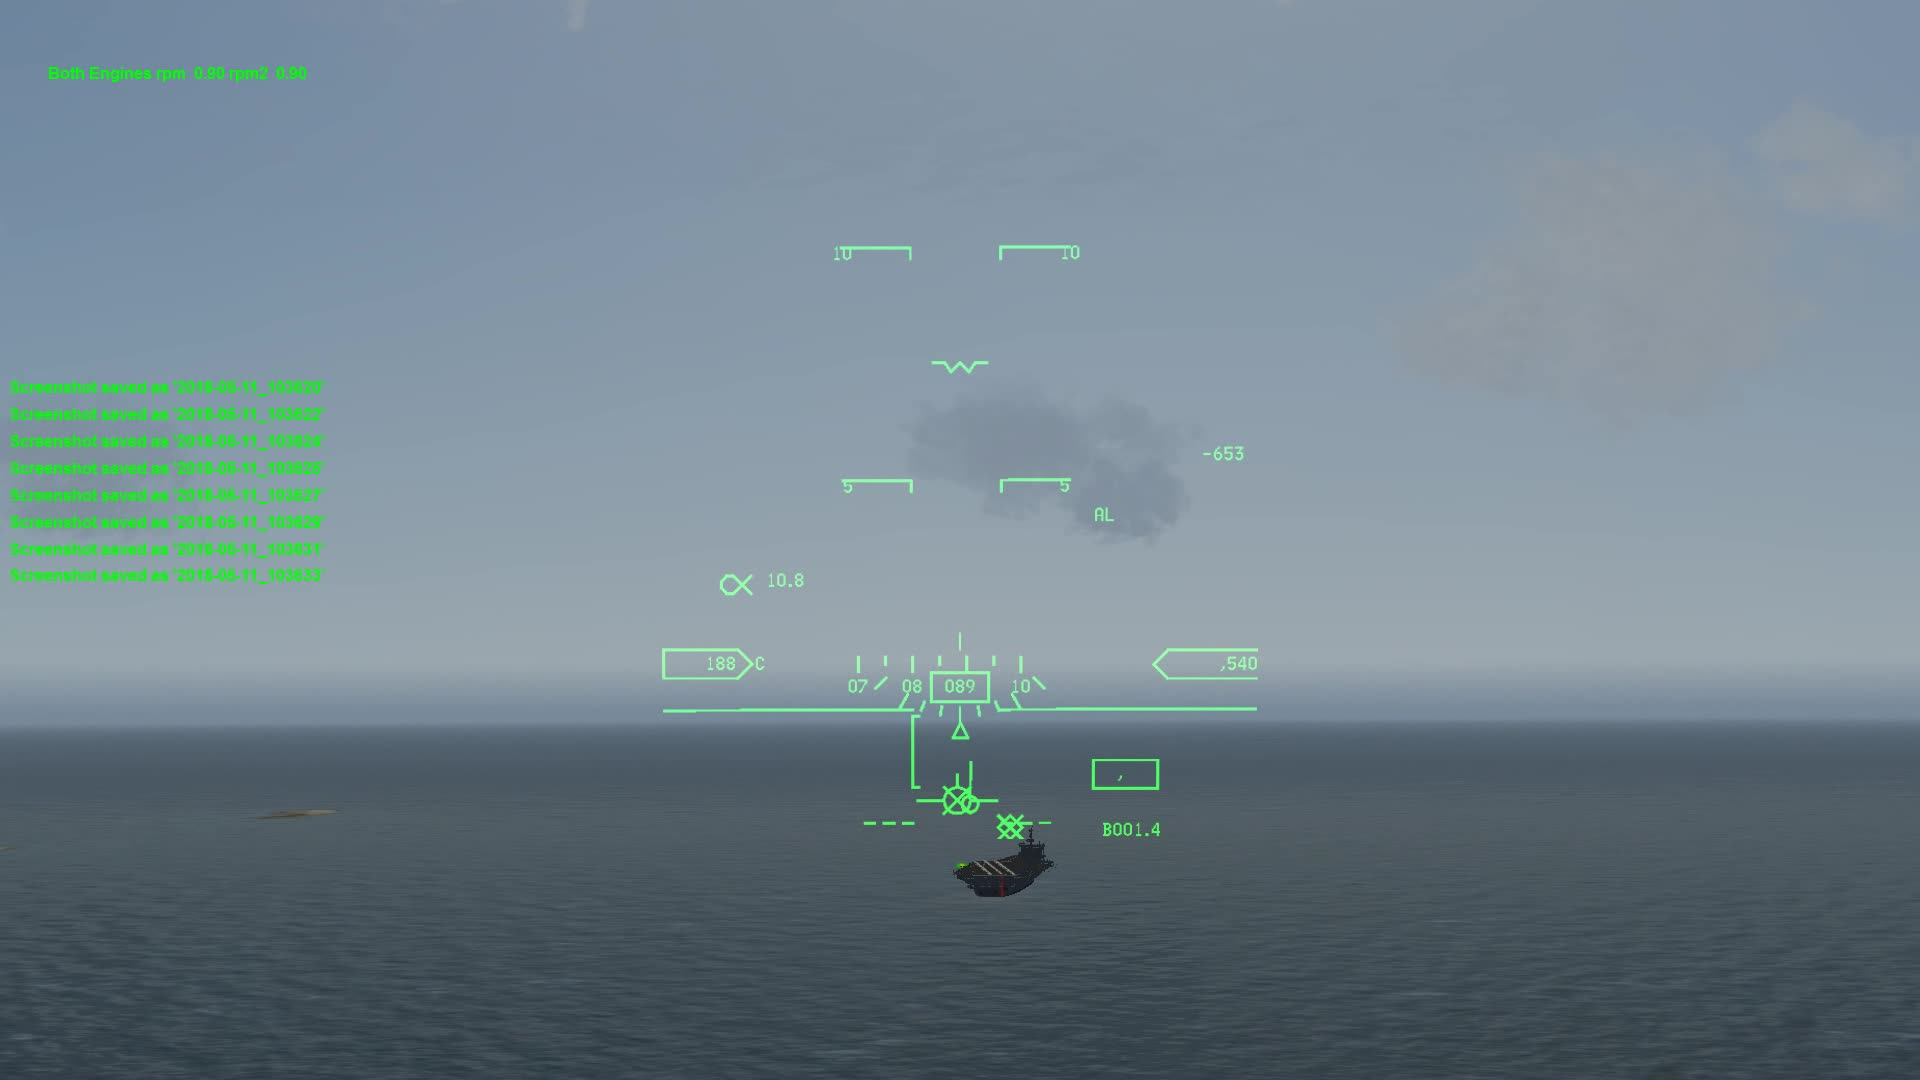speed vector: (916, 766, 993, 818)
